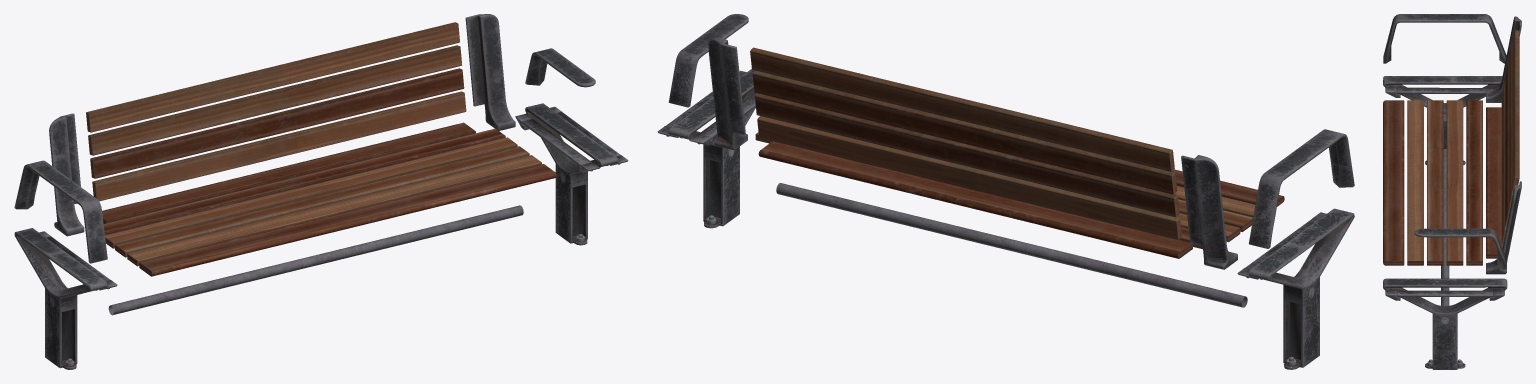
Rendered from park_bench.glb.
The picture shows the model from 3 angles, left to right: view 1: azimuth 30°, elevation 25°; view 2: azimuth 150°, elevation 25°; view 3: azimuth 270°, elevation 25°; orthographic projection. The views are drawn at different scales.
Visible parts, largest first — view 1: park_bench; view 2: park_bench; view 3: park_bench.
Part boxes in pixels (<box>): park_bench: <box>14,14,628,369</box>; park_bench: <box>657,14,1354,369</box>; park_bench: <box>1383,14,1521,369</box>.
Size of the model in its own units: 2.45 by 0.8669 by 0.6704.
Materials: 3 (3 with a texture image).
